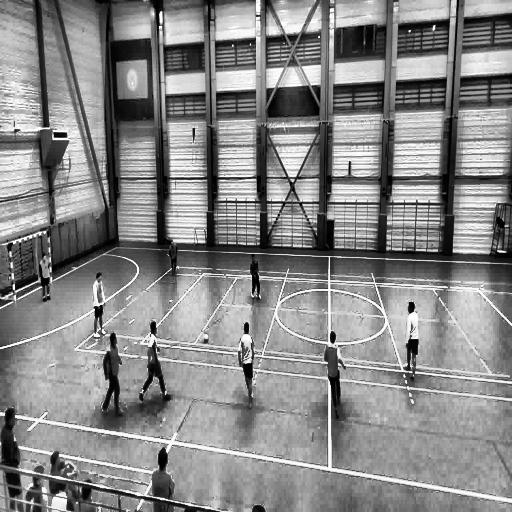ball: (204, 335, 208, 343)
player: (138, 322, 172, 404), (324, 331, 346, 419), (102, 332, 124, 417), (238, 320, 256, 408), (404, 302, 420, 381), (93, 271, 106, 336), (40, 253, 52, 302), (250, 254, 261, 299), (170, 239, 178, 273)
